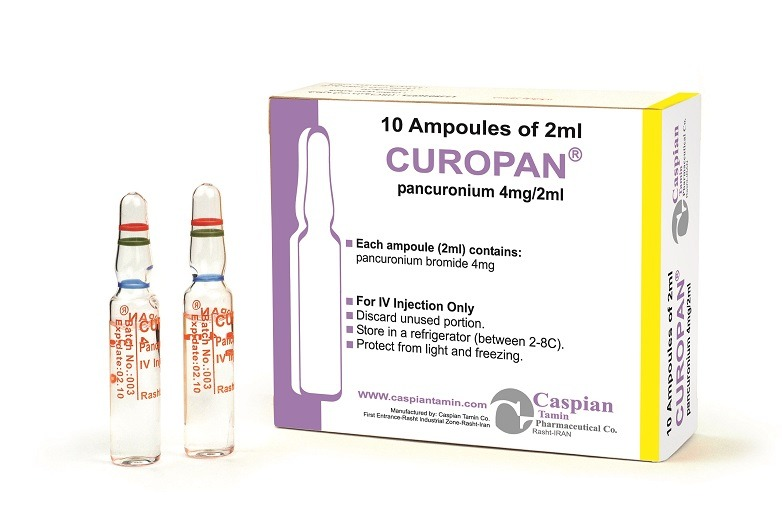Medicine: (251, 70, 714, 467), (93, 184, 173, 484), (183, 176, 240, 474)
